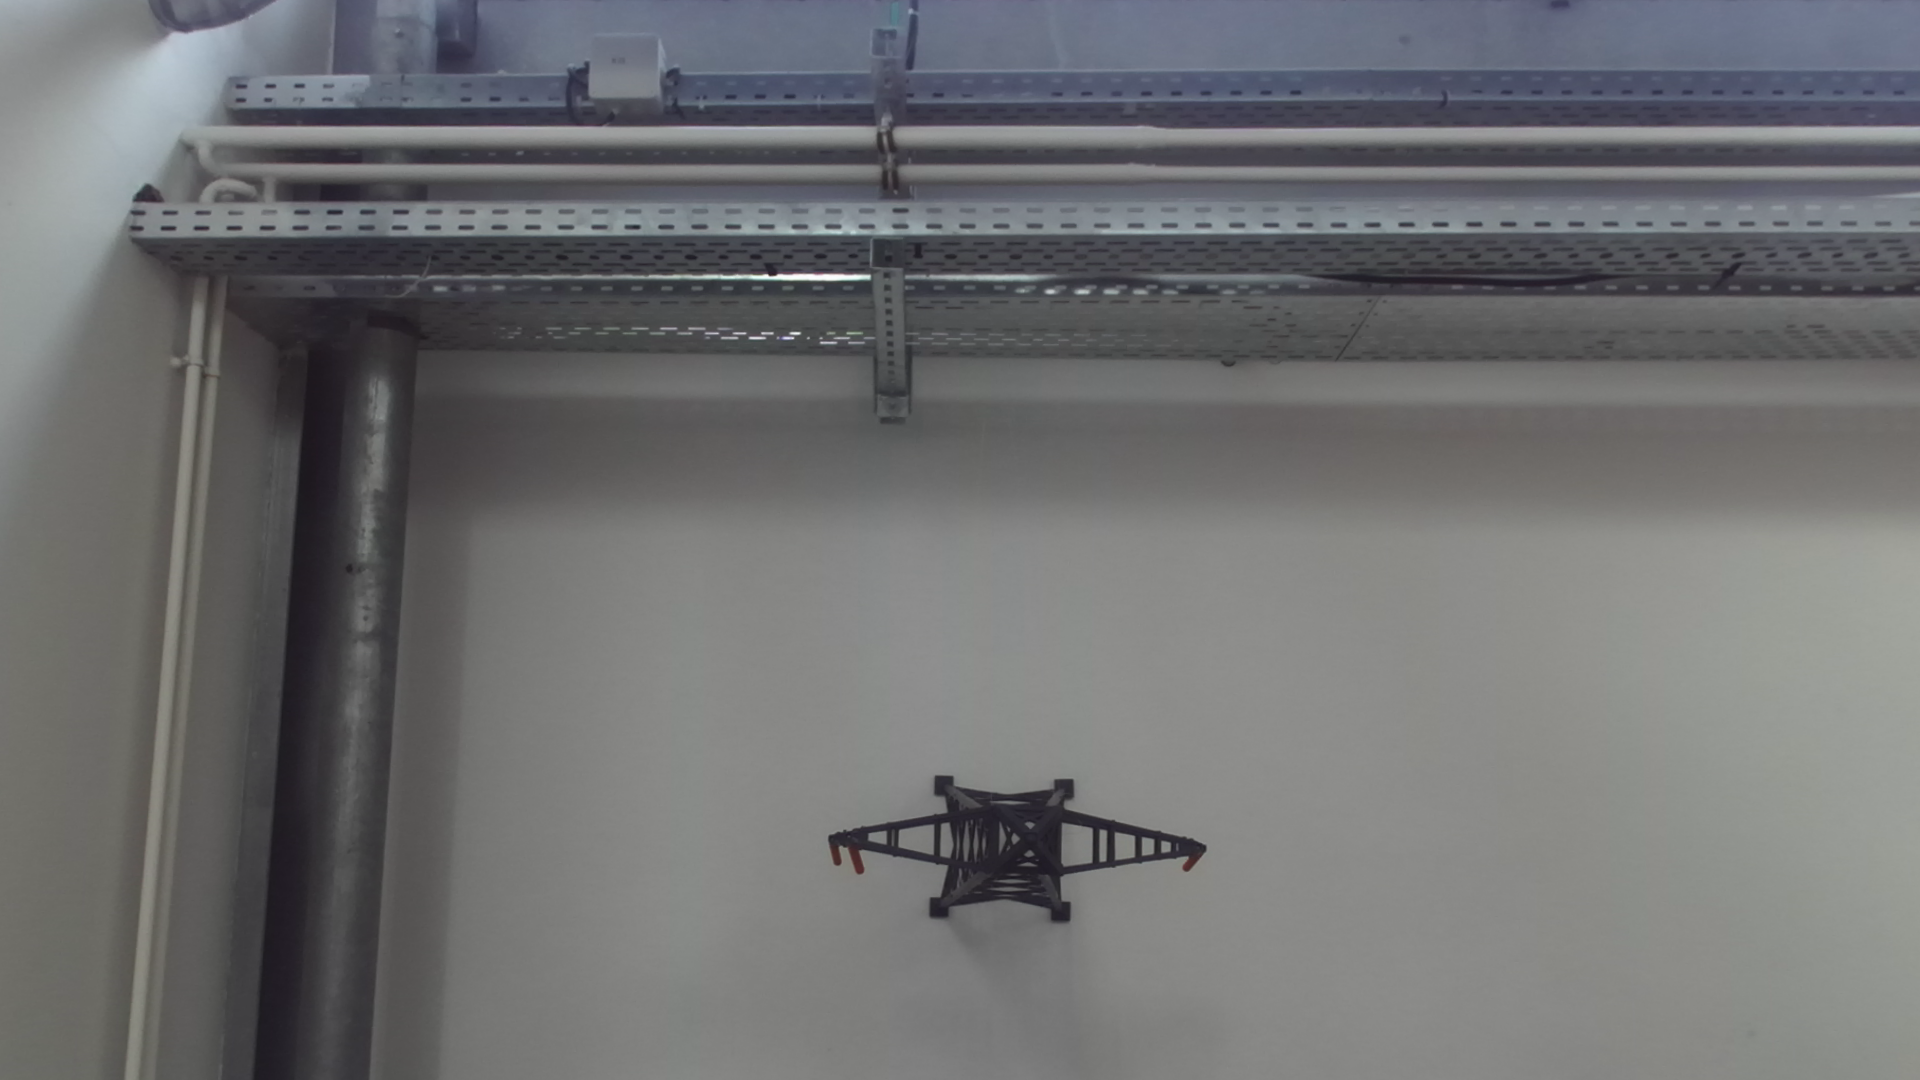pylon_phy: (825, 808, 1211, 881)
